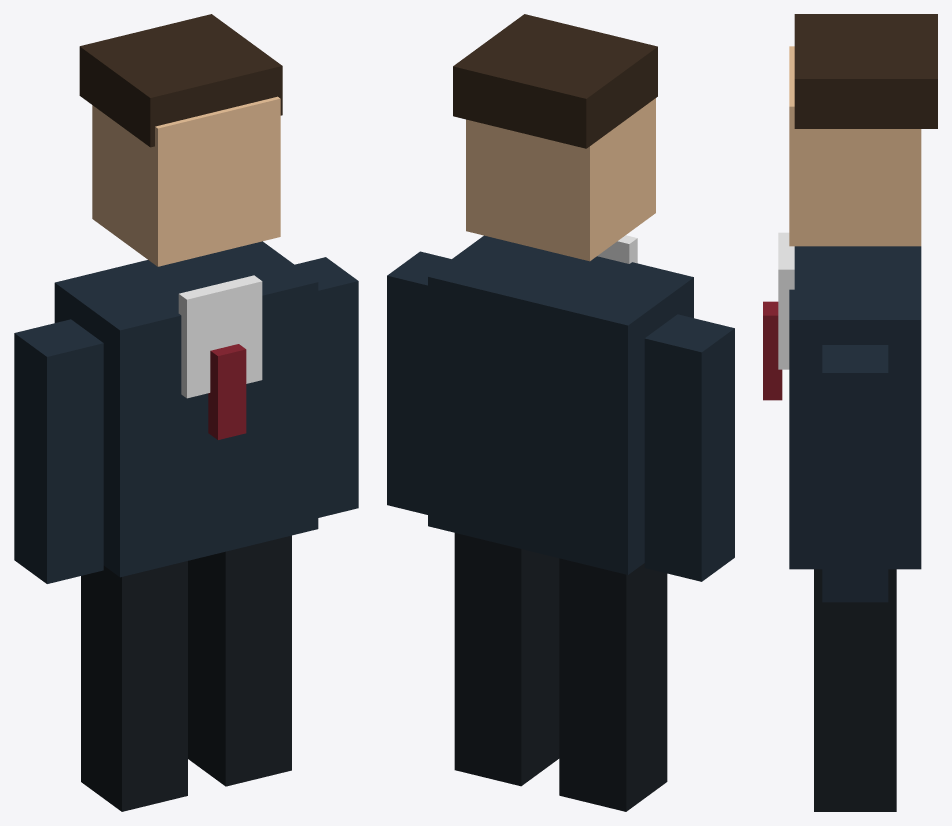
File: avatar-male.glb
The picture shows the model from 3 angles, left to right: view 1: azimuth 30°, elevation 25°; view 2: azimuth 150°, elevation 25°; view 3: azimuth 270°, elevation 25°; orthographic projection.
Bounding box in the file's own units: 0.66 × 1.45 × 0.3175.
